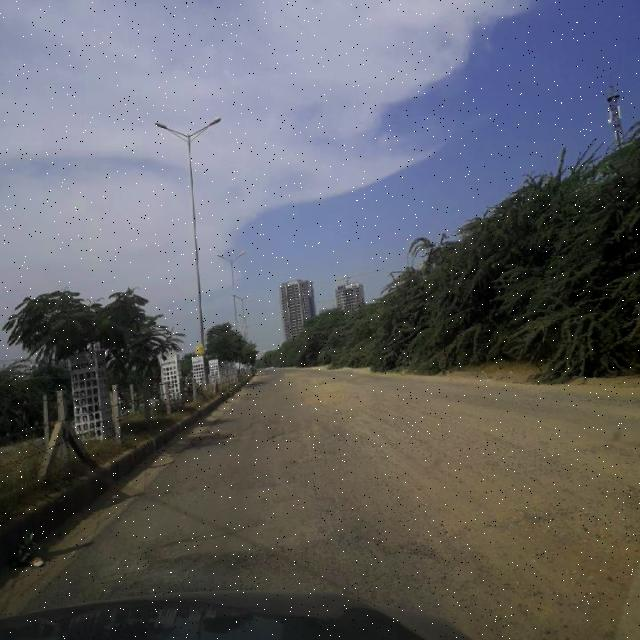D40: (299, 401, 640, 590), (180, 406, 342, 468)
